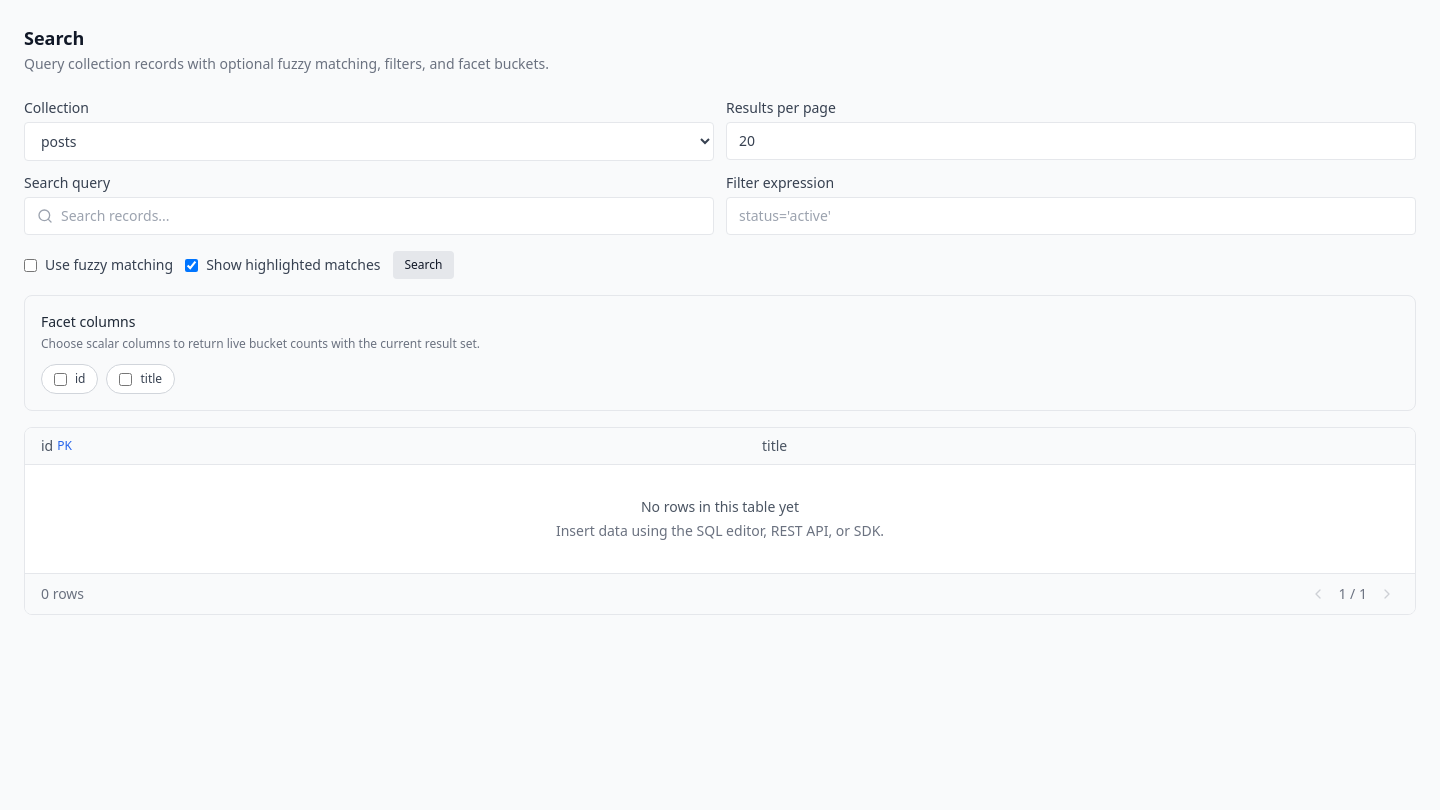
Test case: Search › requests and shows highlighted matches for applied full-text searches by default
This screenshot has width=1440, height=810.
Type "alpha" into the field labelled "Search query".
click(381, 216); type("alpha")  # box [61,206,701,226]
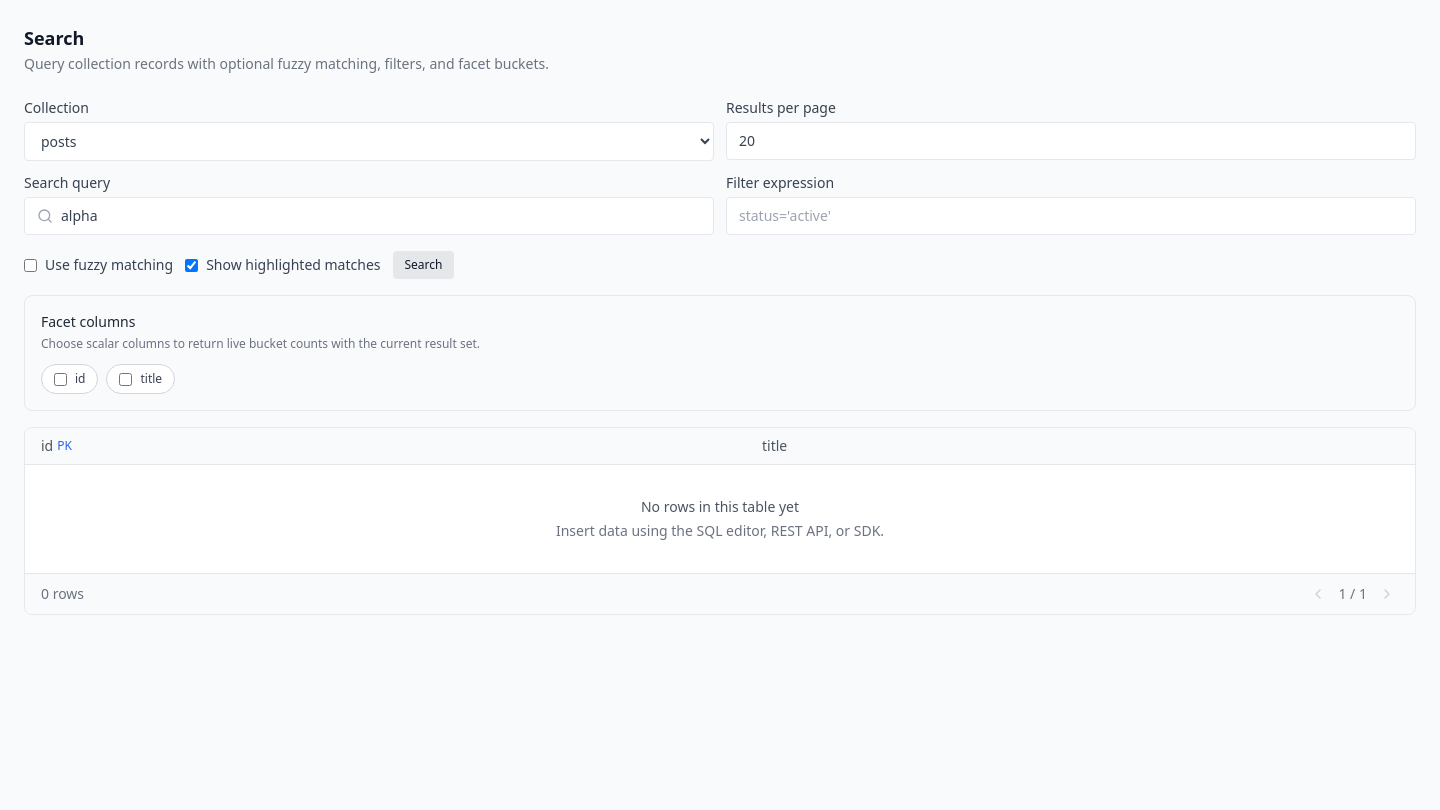
Click the button "Search".
click(424, 265)  # box [392,251,454,279]
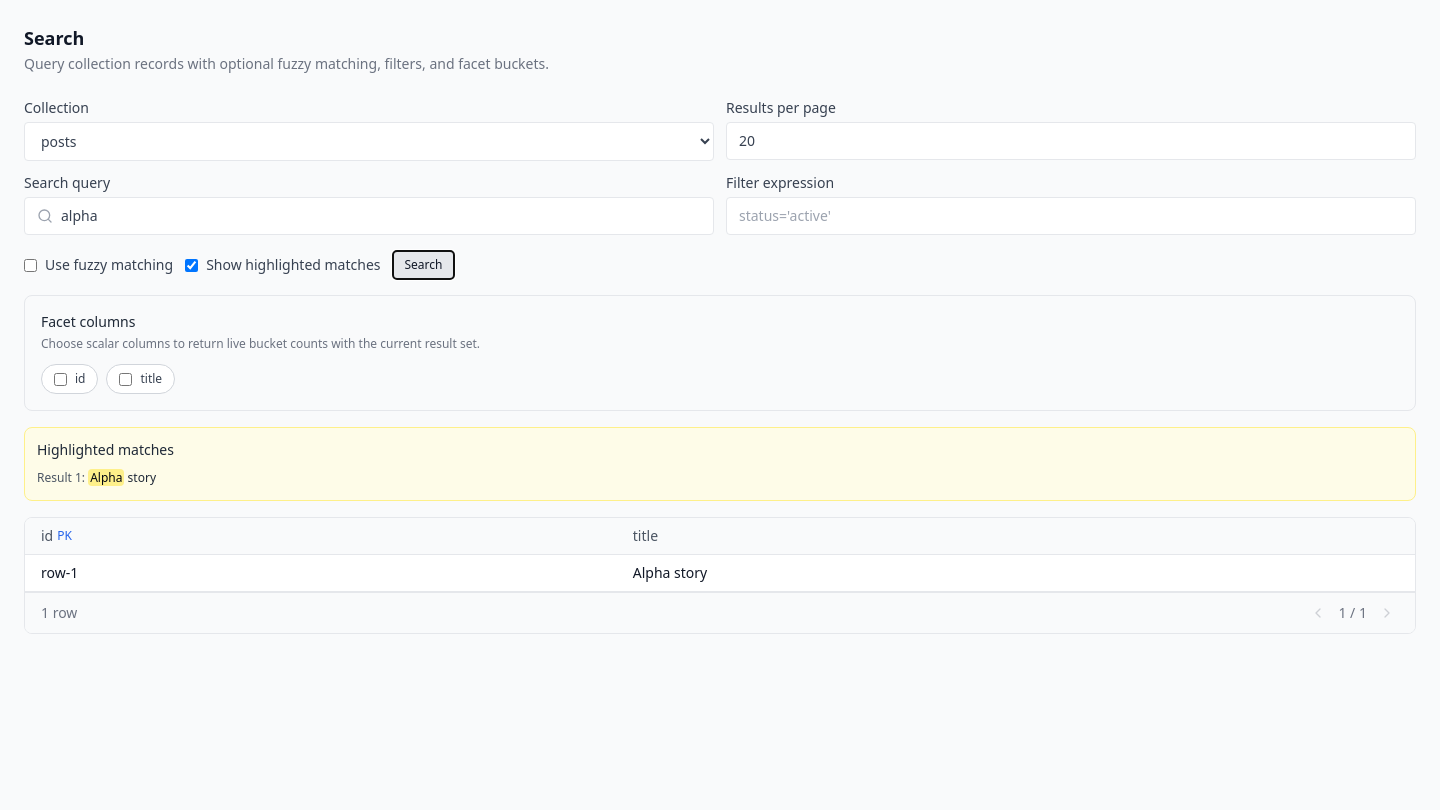
Expected: the checkbox labelled "Show highlighted matches" is checked, [185,258,198,272]
Result: the list item with test id "search-highlight-snippet-0" reads "Result 1: Alpha story" at [37,469,156,486]
Result: the text "Alpha" is shown at [88,469,124,486]
